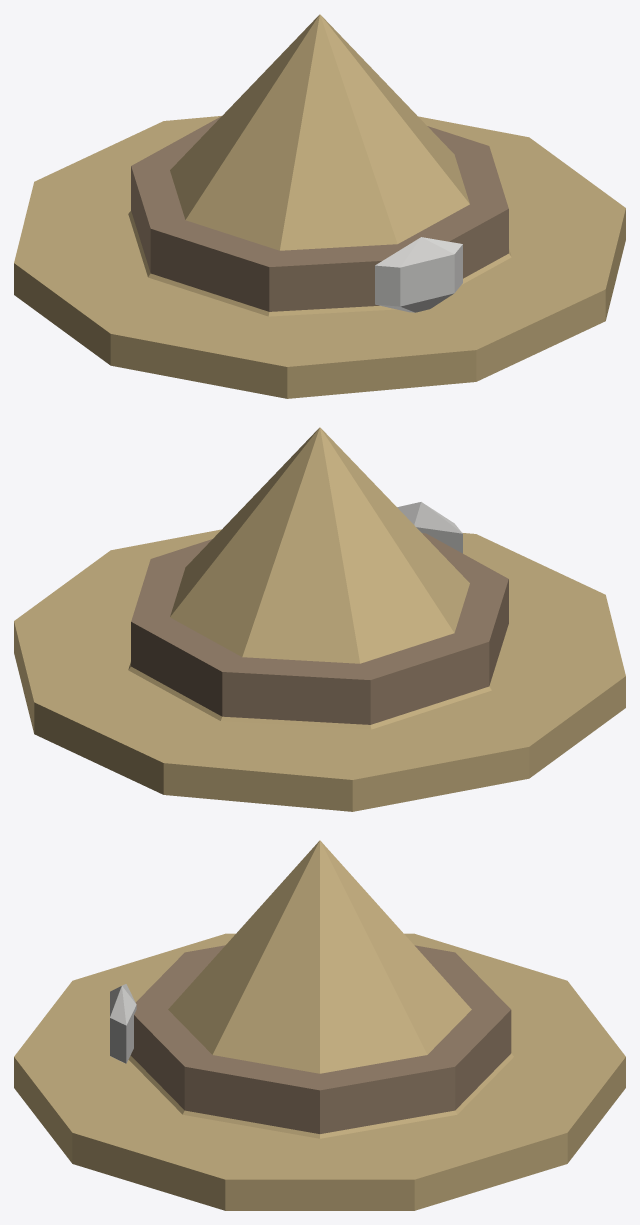
Rendered from pilgrim-hat.glb.
3 renders of one model, top to bottom at view 1: azimuth 30°, elevation 25°; view 2: azimuth 150°, elevation 25°; view 3: azimuth 270°, elevation 25°, orthographic. The views are drawn at different scales.
Parts seen in each view (by area): view 1: pilgrim_hat; view 2: pilgrim_hat; view 3: pilgrim_hat.
Part boxes in pixels (<box>): pilgrim_hat: <box>14,14,625,398</box>; pilgrim_hat: <box>14,427,625,811</box>; pilgrim_hat: <box>14,840,625,1210</box>.
Size of the model in its own units: 0.2536 by 0.1192 by 0.2667.
